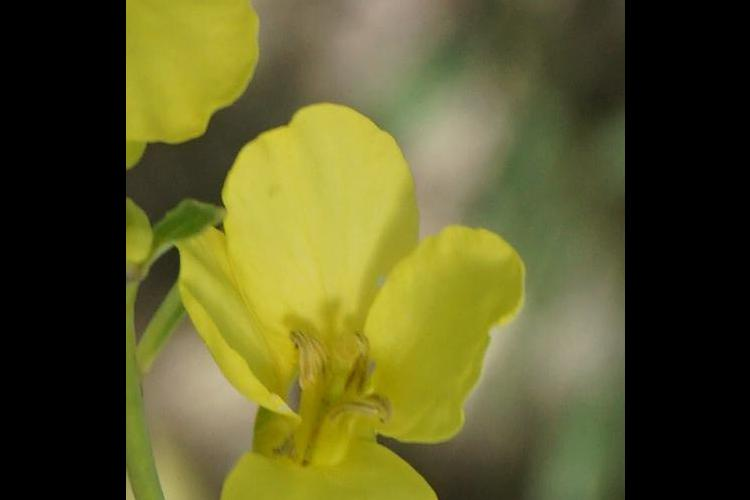yellow: (179, 99, 503, 500), (127, 1, 255, 162)
